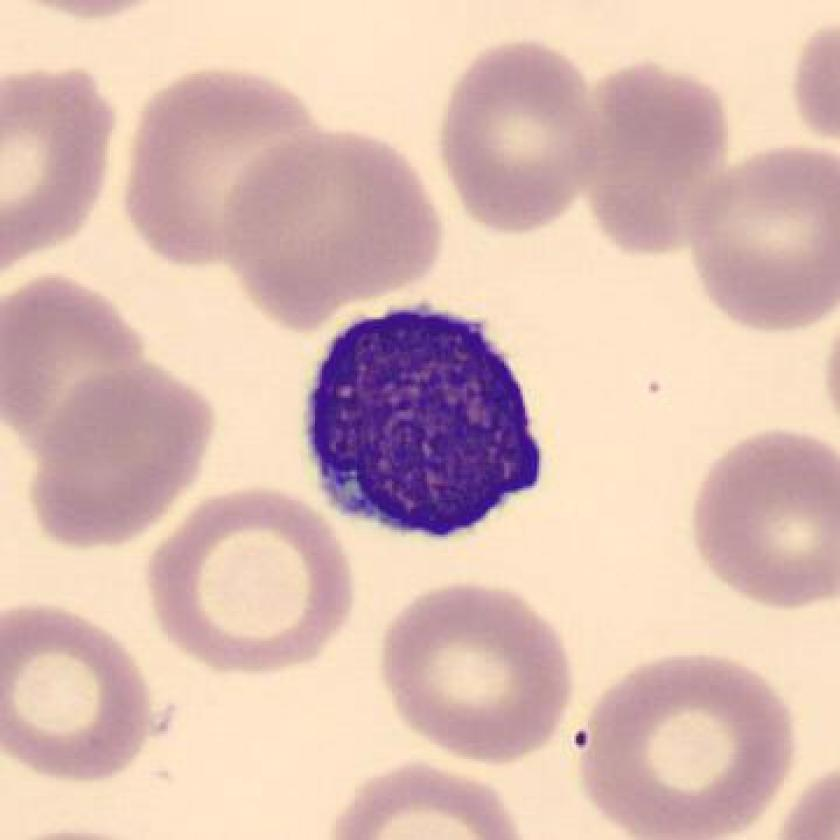lymphocyte: (286, 290, 556, 566)
